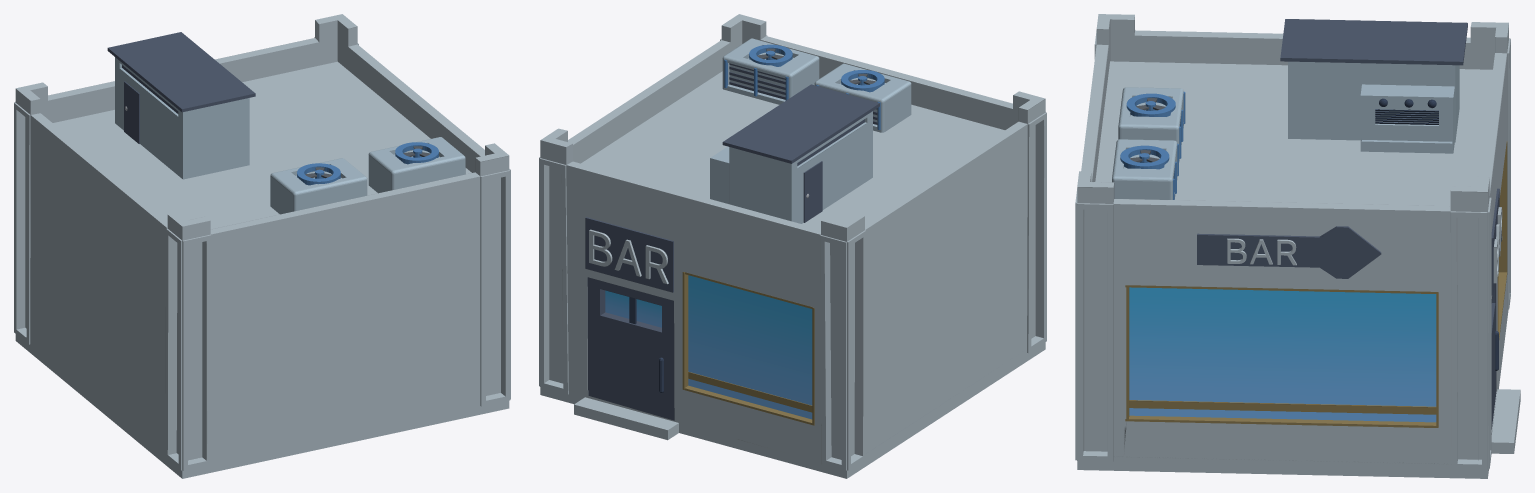
File: node_lev3.glb
The picture shows the model from 3 angles, left to right: view 1: azimuth 30°, elevation 25°; view 2: azimuth 150°, elevation 25°; view 3: azimuth 270°, elevation 25°; orthographic projection. The views are drawn at different scales.
Visible parts, largest first — view 1: node_lev3; view 2: node_lev3; view 3: node_lev3.
Boxes of the visible parts, box(x1,y1,x2,y2) form: node_lev3: box(14, 14, 510, 478); node_lev3: box(539, 14, 1046, 478); node_lev3: box(1075, 14, 1520, 478).
Size of the model in its own units: 7 by 5.73 by 7.16.
Materials: 1 (1 with a texture image).
